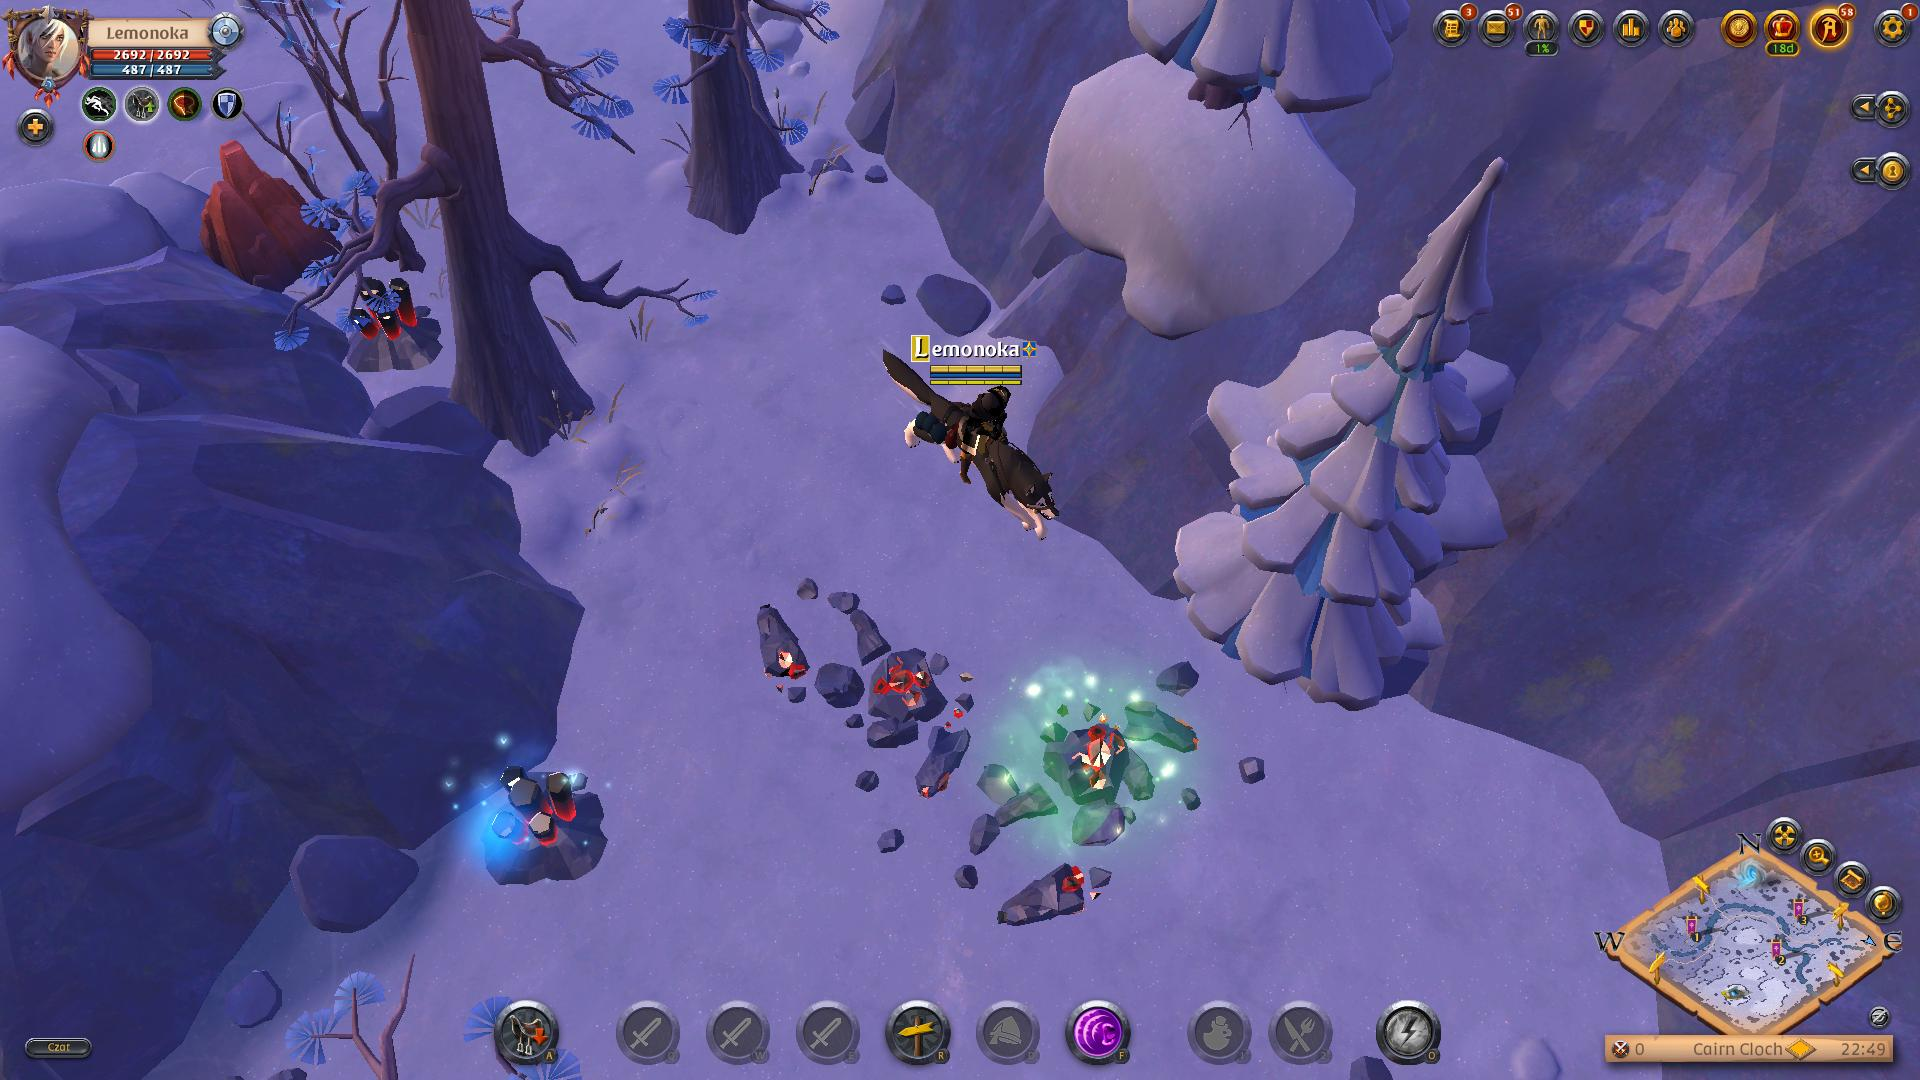ore tier 5: (473, 765, 628, 903), (353, 287, 434, 380)
rock tier 3: (985, 663, 1201, 843)
